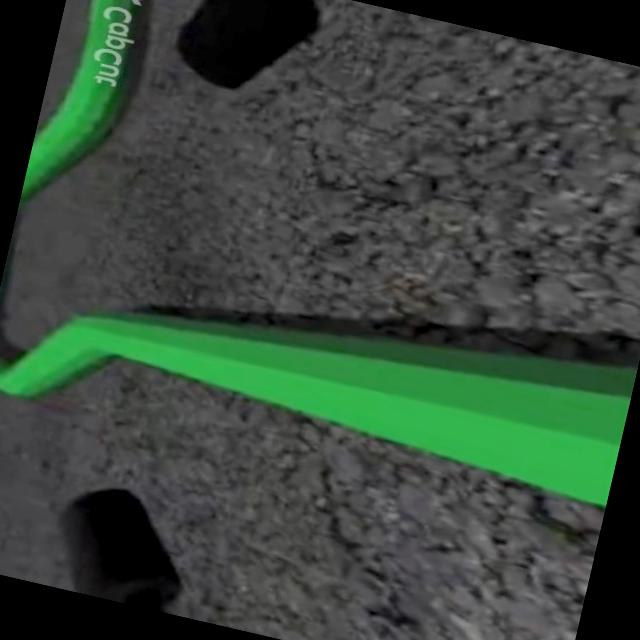gas: (7, 227, 638, 509)
